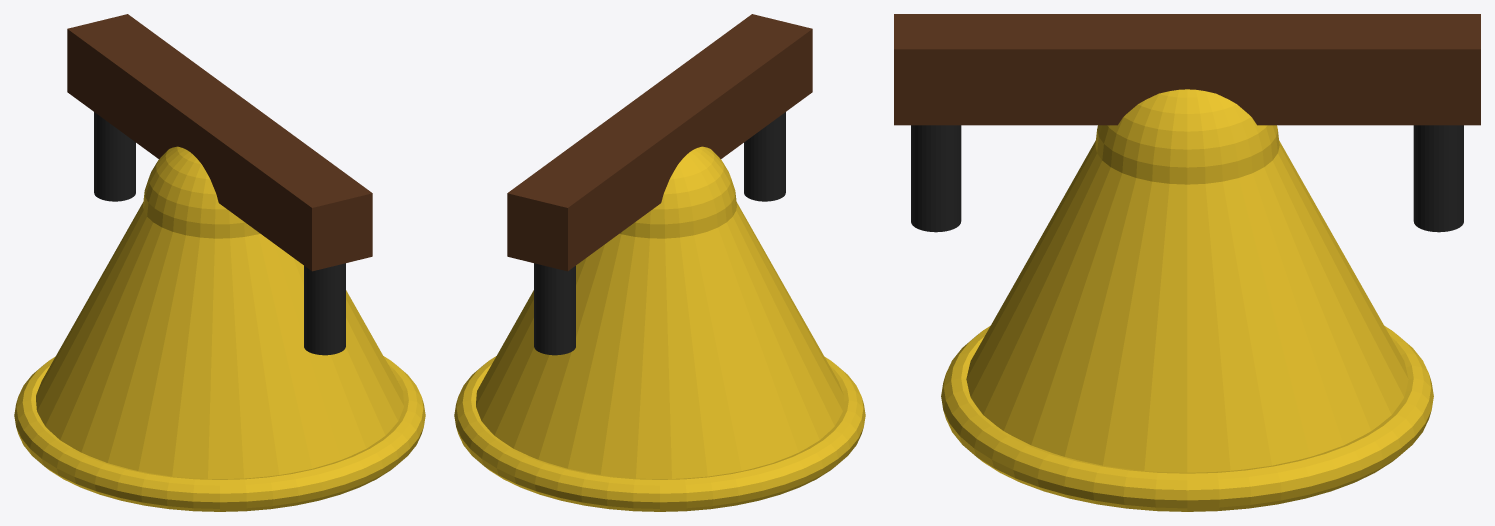
The model's file is wielki_dzwon.obj.
3 renders of one model, left to right at view 1: azimuth 30°, elevation 25°; view 2: azimuth 150°, elevation 25°; view 3: azimuth 270°, elevation 25°, orthographic. The views are drawn at different scales.
Parts seen in each view (by area): view 1: CzaszaDzwonu, BelkaNosna, Cylinder, Cylinder.001; view 2: CzaszaDzwonu, BelkaNosna, Cylinder.001, Cylinder; view 3: CzaszaDzwonu, BelkaNosna, Cylinder, Cylinder.001.
Part boxes in pixels (x1=…): CzaszaDzwonu: x1=14, y1=146, x2=425, y2=511; BelkaNosna: x1=67, y1=14, x2=372, y2=271; Cylinder: x1=304, y1=263, x2=345, y2=355; Cylinder.001: x1=94, y1=112, x2=135, y2=201; CzaszaDzwonu: x1=454, y1=146, x2=865, y2=511; BelkaNosna: x1=507, y1=14, x2=812, y2=271; Cylinder.001: x1=534, y1=263, x2=575, y2=355; Cylinder: x1=744, y1=112, x2=785, y2=201; CzaszaDzwonu: x1=941, y1=89, x2=1433, y2=511; BelkaNosna: x1=894, y1=14, x2=1480, y2=125; Cylinder: x1=911, y1=125, x2=961, y2=232; Cylinder.001: x1=1413, y1=125, x2=1463, y2=232.
Bounding box in the file's own units: 2.94 × 2.65 × 3.5.
